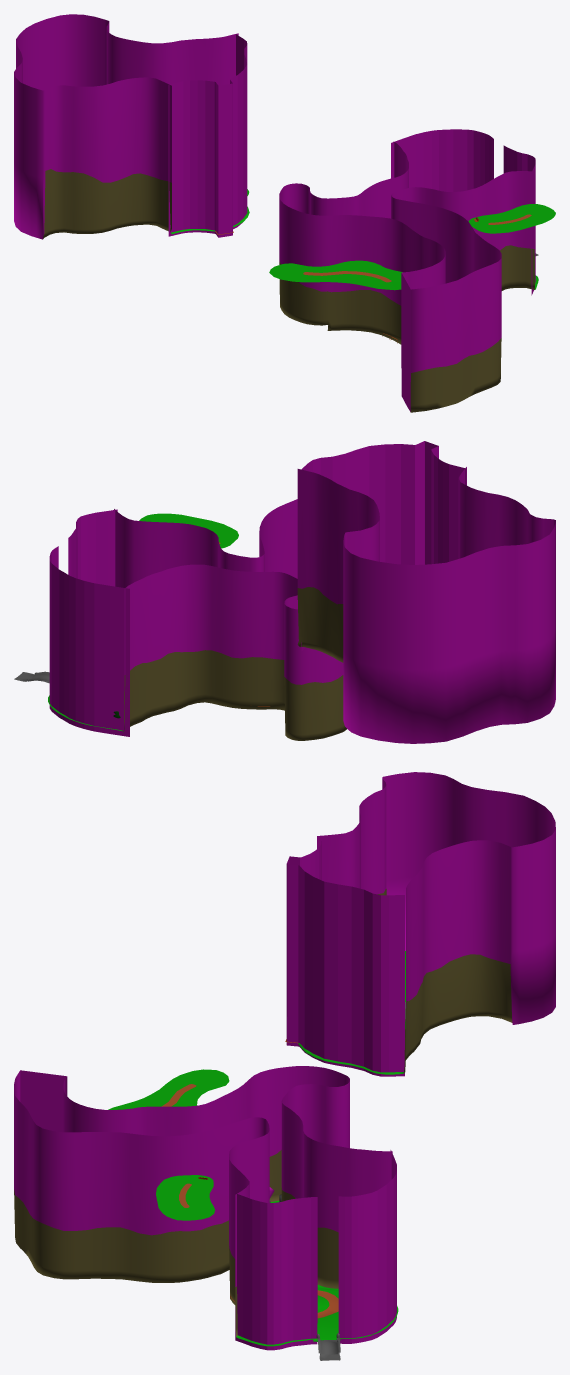
Rendered from PeachCastleIntroPlanet.obj.
3 renders of one model, top to bottom at view 1: azimuth 30°, elevation 25°; view 2: azimuth 150°, elevation 25°; view 3: azimuth 270°, elevation 25°, orthographic. The views are drawn at different scales.
Visible parts, largest first — view 1: Collision_Plane.002; view 2: Collision_Plane.002; view 3: Collision_Plane.002.
Part boxes in pixels (<box>): Collision_Plane.002: <box>14,14,555,412</box>; Collision_Plane.002: <box>14,441,555,743</box>; Collision_Plane.002: <box>14,772,555,1360</box>.
Size of the model in its own units: 18326 by 9681 by 15073.
